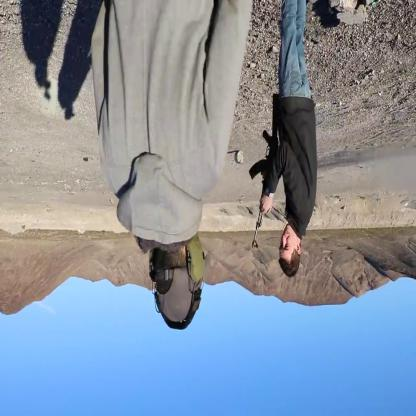long weapon: (244, 92, 284, 248)
